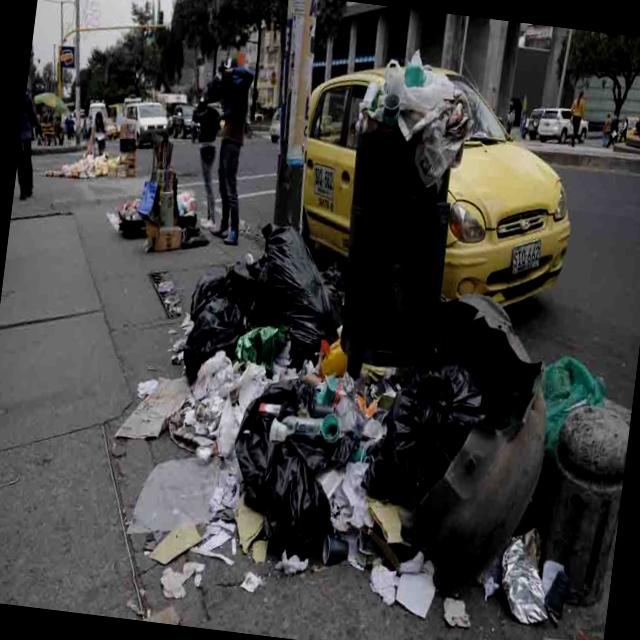garbage: (171, 35, 596, 640)
